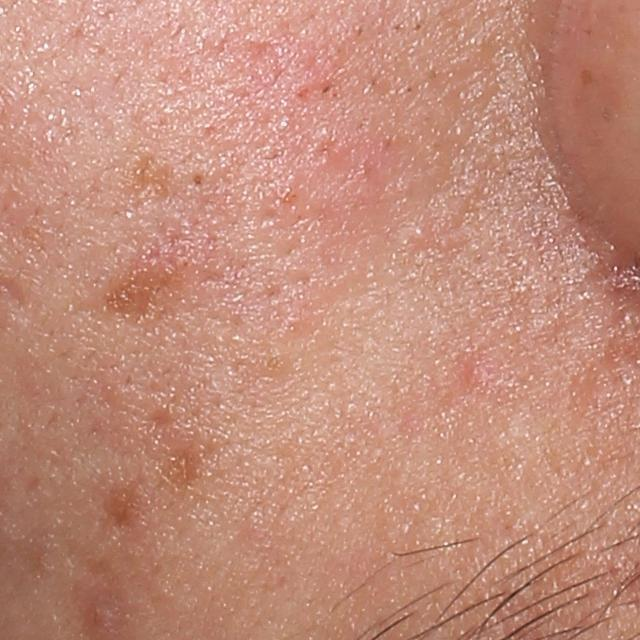atrophic_scar: (159, 444, 210, 483), (141, 408, 173, 438)
comedo: (185, 170, 211, 193), (407, 221, 427, 244)
papule: (79, 593, 120, 637)
